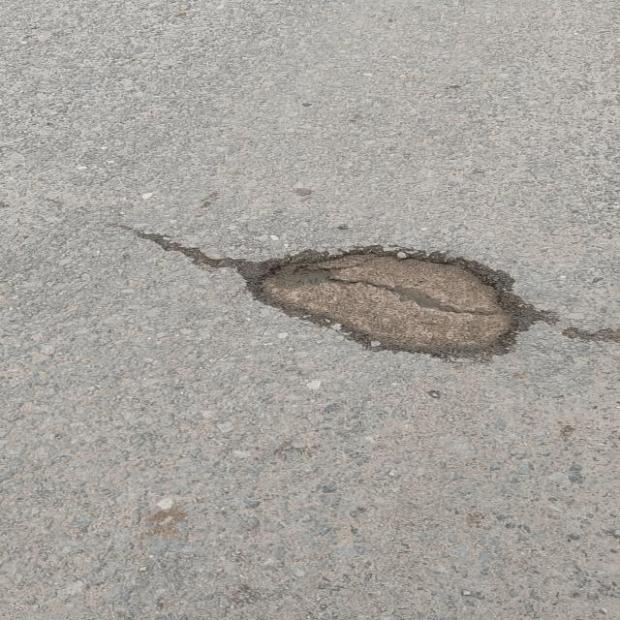lubang: (137, 232, 552, 356)
